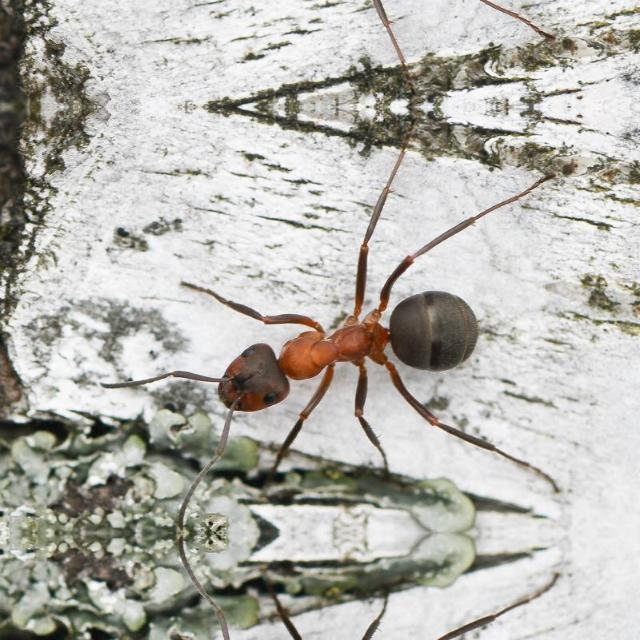Formica: (191, 239, 501, 486), (191, 576, 501, 640)
